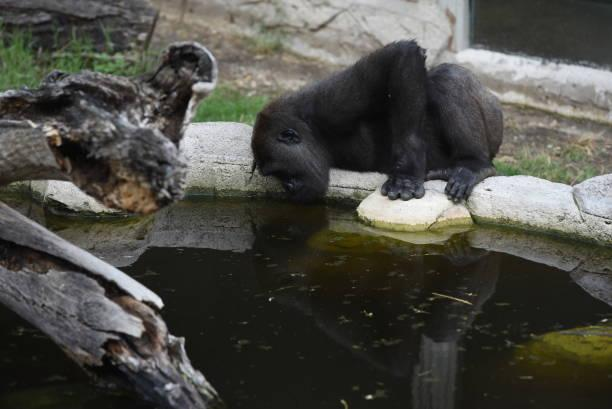gorille_Autres: (250, 35, 520, 207)
